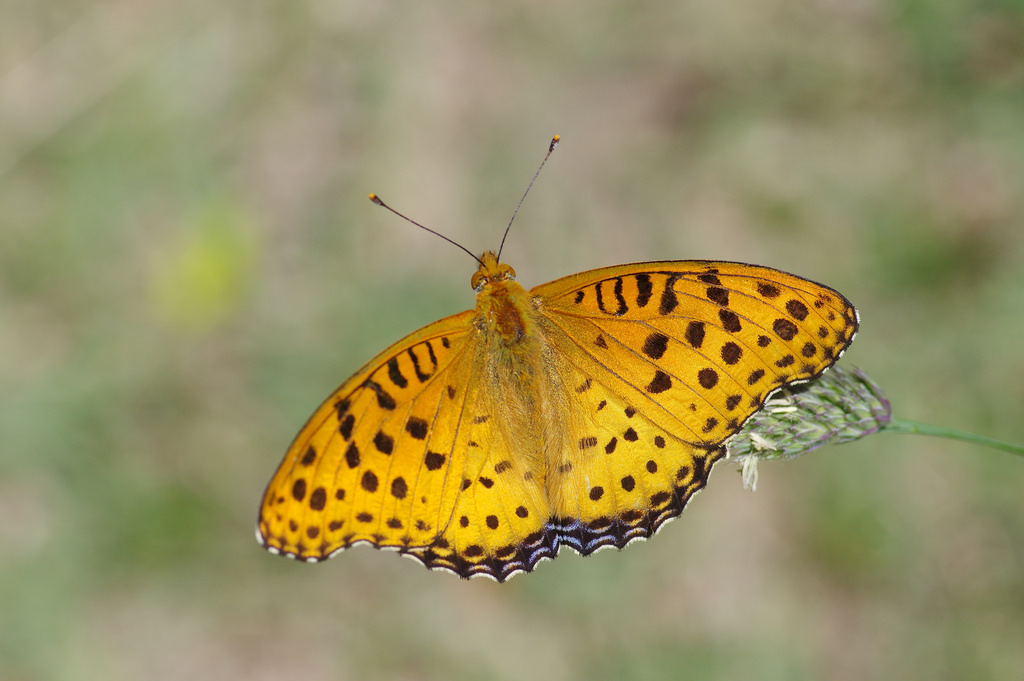Argyreus hyperbius: (240, 119, 864, 586)
butterfly: (244, 123, 868, 590)
